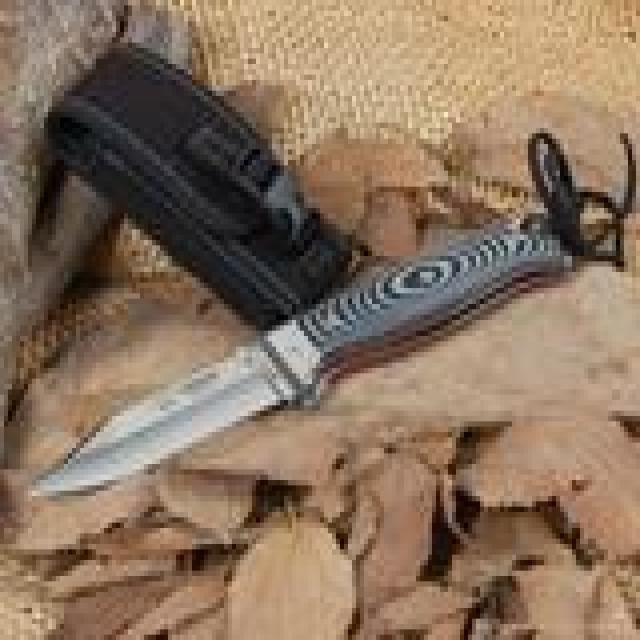Knife: (25, 188, 602, 545)
